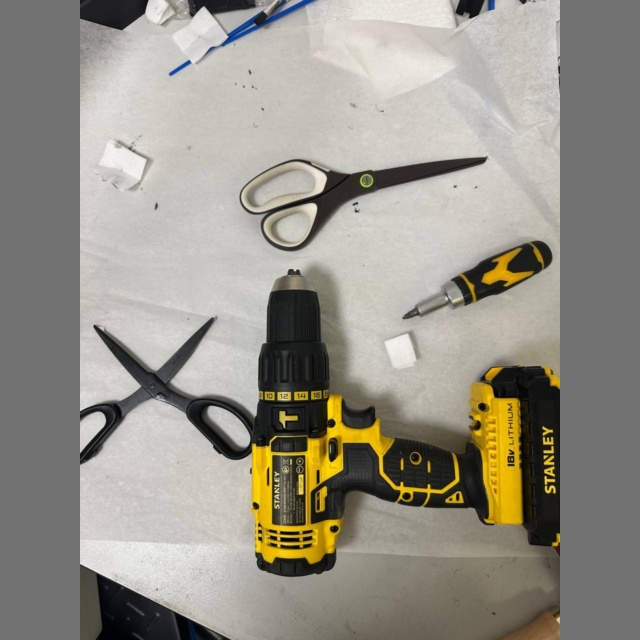drill: (251, 269, 555, 576)
scissor: (80, 318, 253, 464), (240, 157, 486, 249)
screwdriver: (403, 241, 552, 319)
